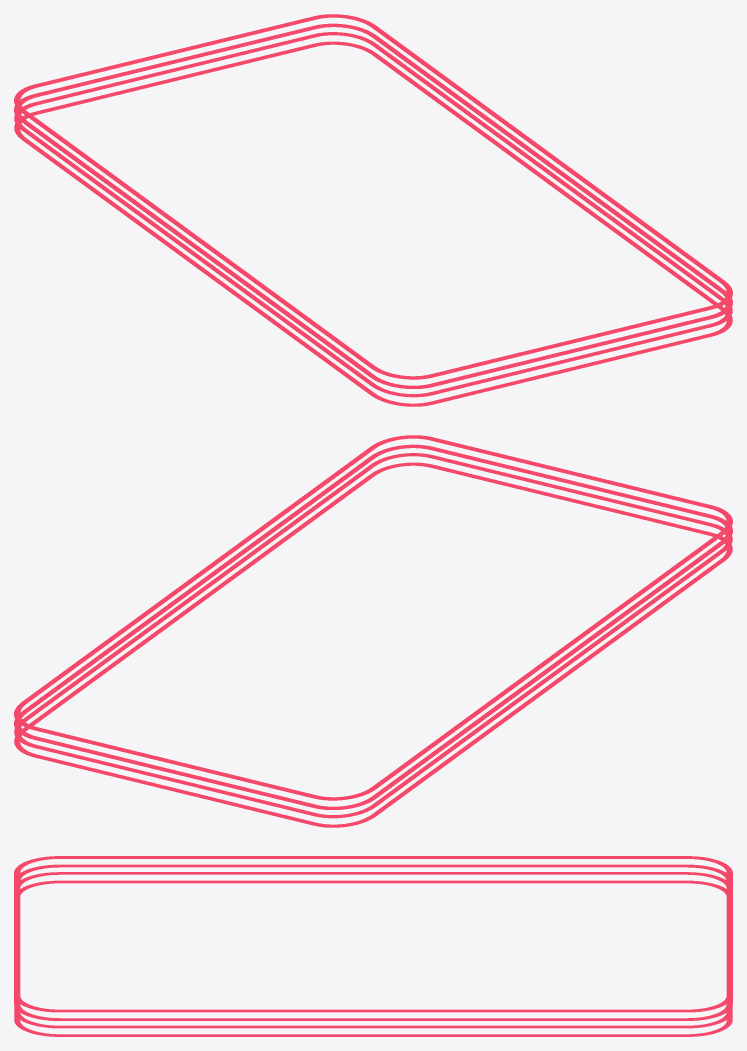
Rendered from mob-outline.glb.
3 views of the same model, one above another, from view 1: azimuth 30°, elevation 25°; view 2: azimuth 150°, elevation 25°; view 3: azimuth 270°, elevation 25° (orthographic). The views are drawn at different scales.
Parts seen in each view (by area): view 1: Curve.001, Curve.002; view 2: Curve.001, Curve.002; view 3: Curve.001, Curve.002.
Part boxes in pixels (<box>): Curve.001: <box>14,14,732,397</box>; Curve.002: <box>14,23,732,406</box>; Curve.001: <box>14,435,732,818</box>; Curve.002: <box>14,444,732,827</box>; Curve.001: <box>14,856,732,1028</box>; Curve.002: <box>14,864,732,1036</box>.
Bounding box in the file's own units: 3.91 × 0.3062 × 7.62.
